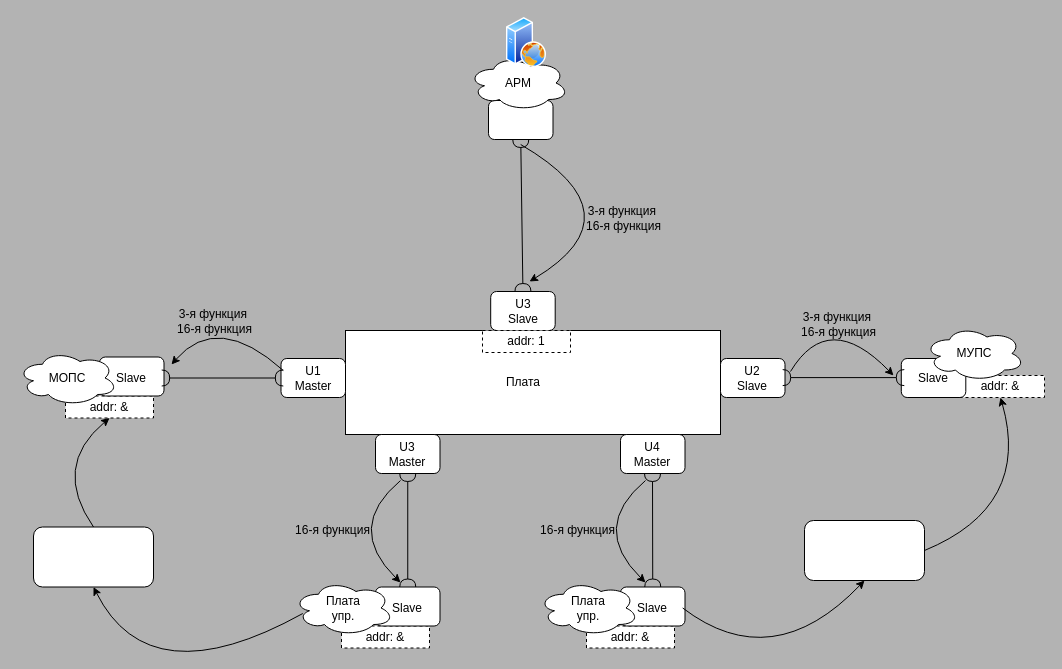
Some shapes in this 1062 by 669 pixel diagram are drawn without their labels. Here are the shapes that lost their labels. From the top down, the centre of each, then its label:
At (x=520, y=120): "Master".
At (x=93, y=556): "ТБИ".
At (x=864, y=550): "ТБИ + Реле".
